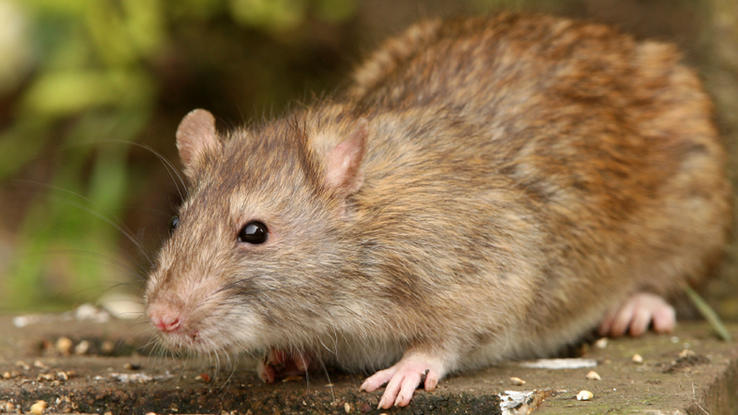rat: (131, 75, 478, 413)
